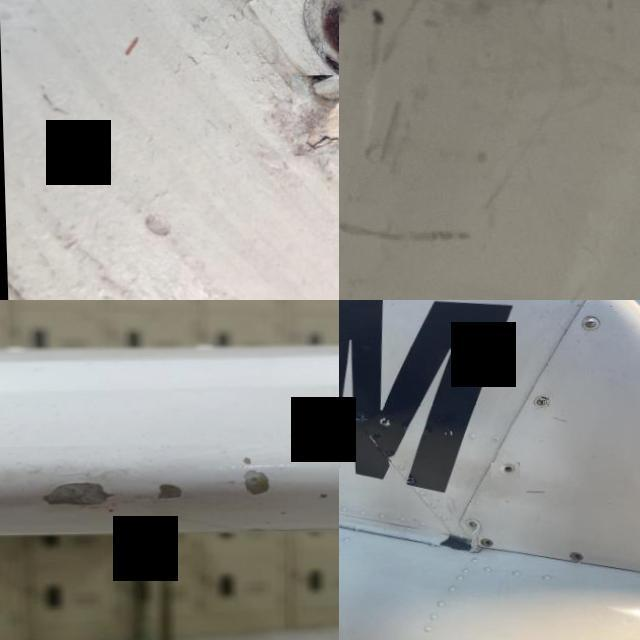Crack: (0, 441, 339, 535), (289, 76, 339, 157)
Missing_Fastener: (489, 464, 518, 480), (562, 552, 587, 564), (476, 539, 494, 549)
